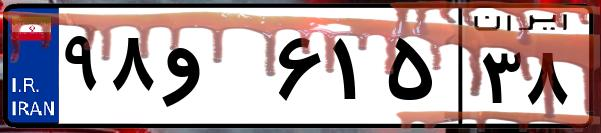1: (330, 28, 385, 110)
3: (475, 38, 525, 113)
5: (385, 28, 445, 110)
6: (270, 28, 330, 110)
8: (525, 38, 570, 115), (110, 28, 158, 98)
9: (57, 26, 110, 100)
و: (158, 20, 270, 120)
